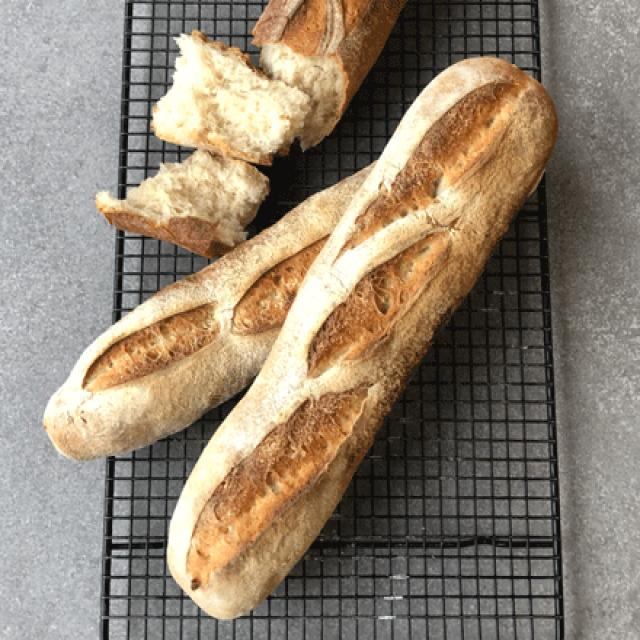Baguette: (167, 58, 557, 616), (44, 170, 368, 458)
